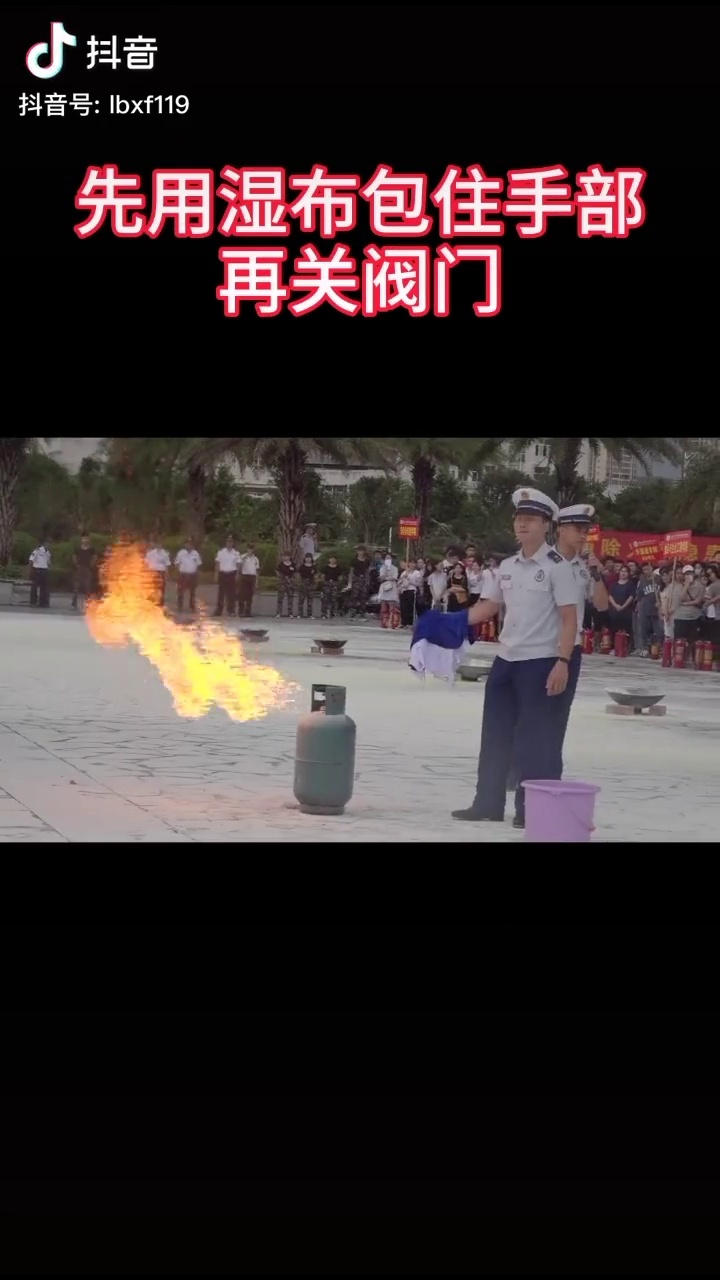fire: (90, 547, 294, 726)
